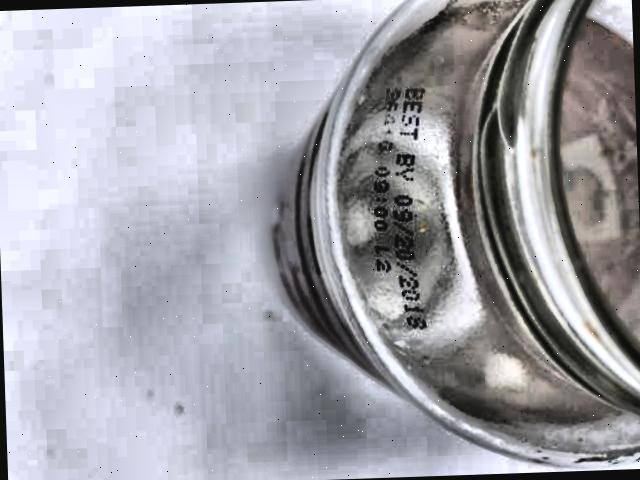Almennt: (276, 0, 640, 475)
